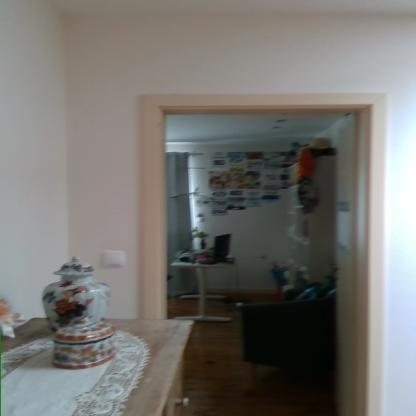open: (126, 86, 398, 415)
